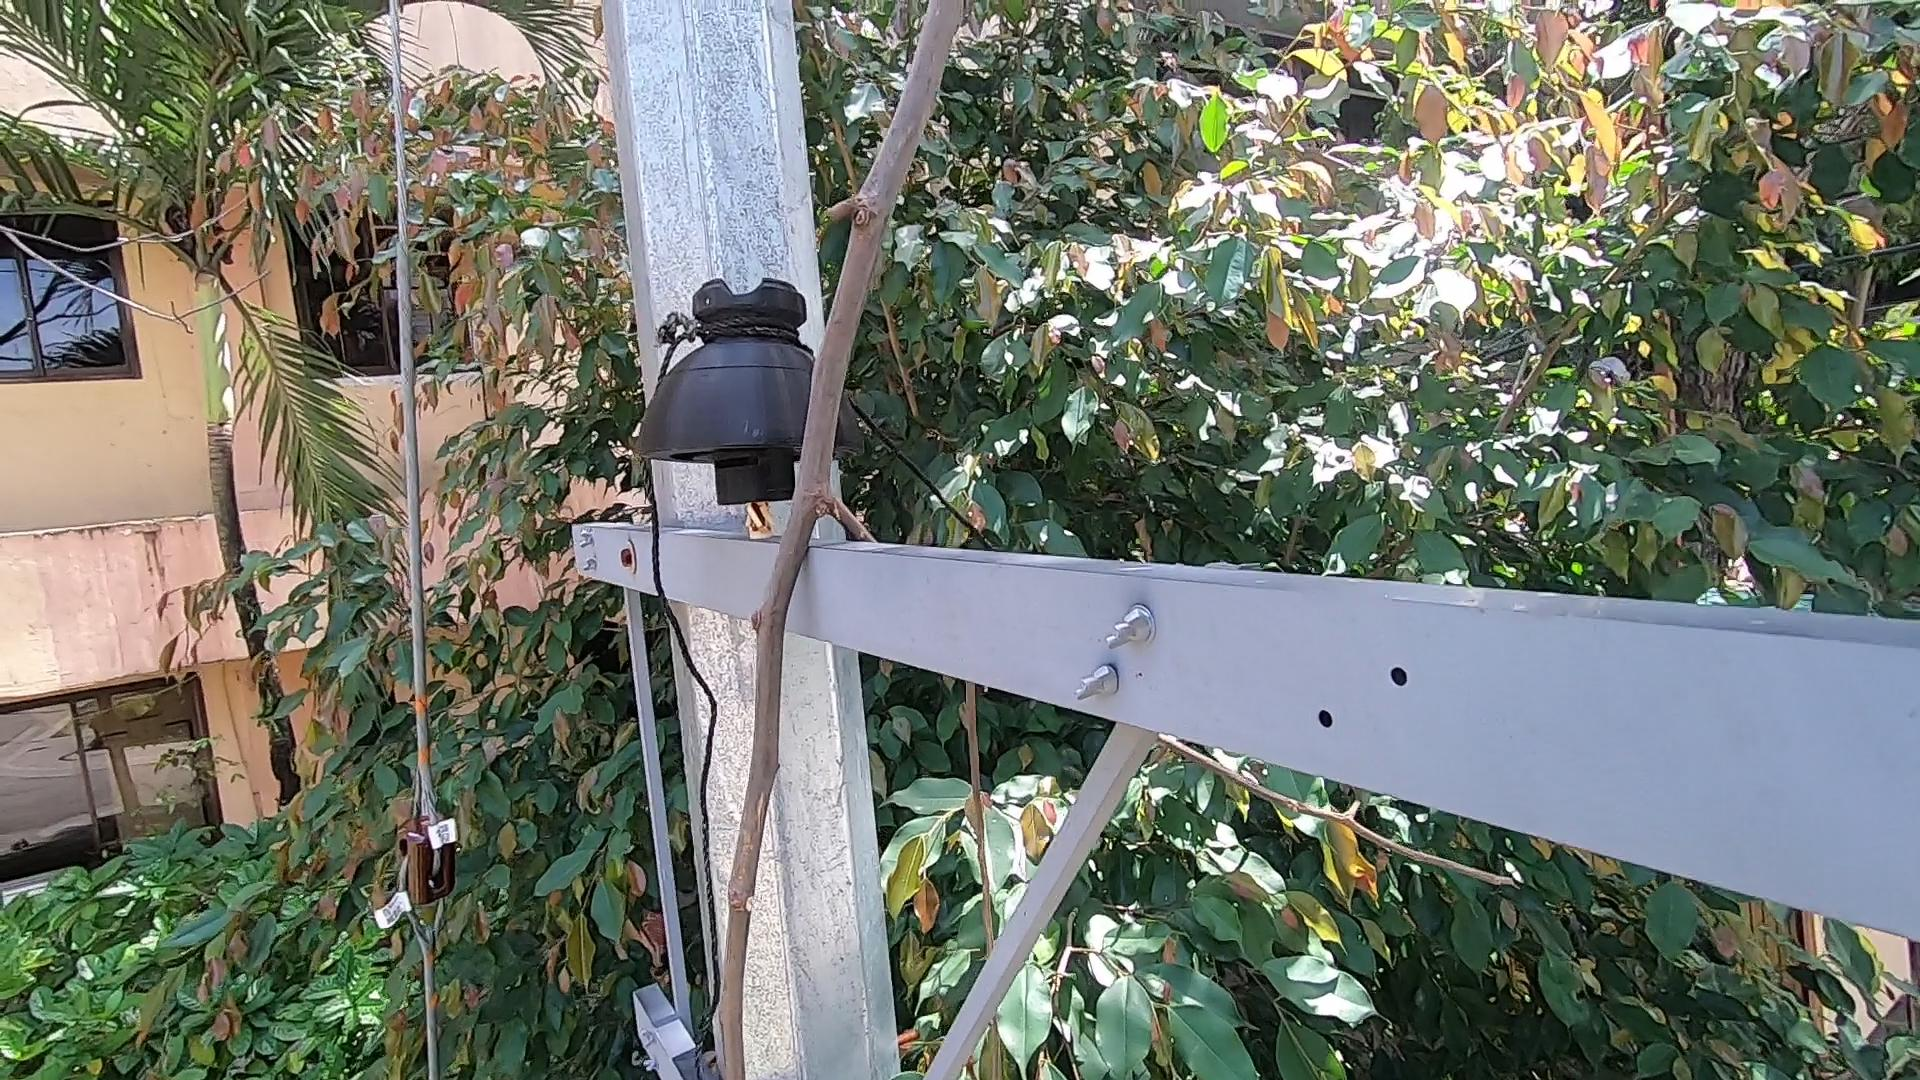tree branch: (686, 1, 1029, 1077)
